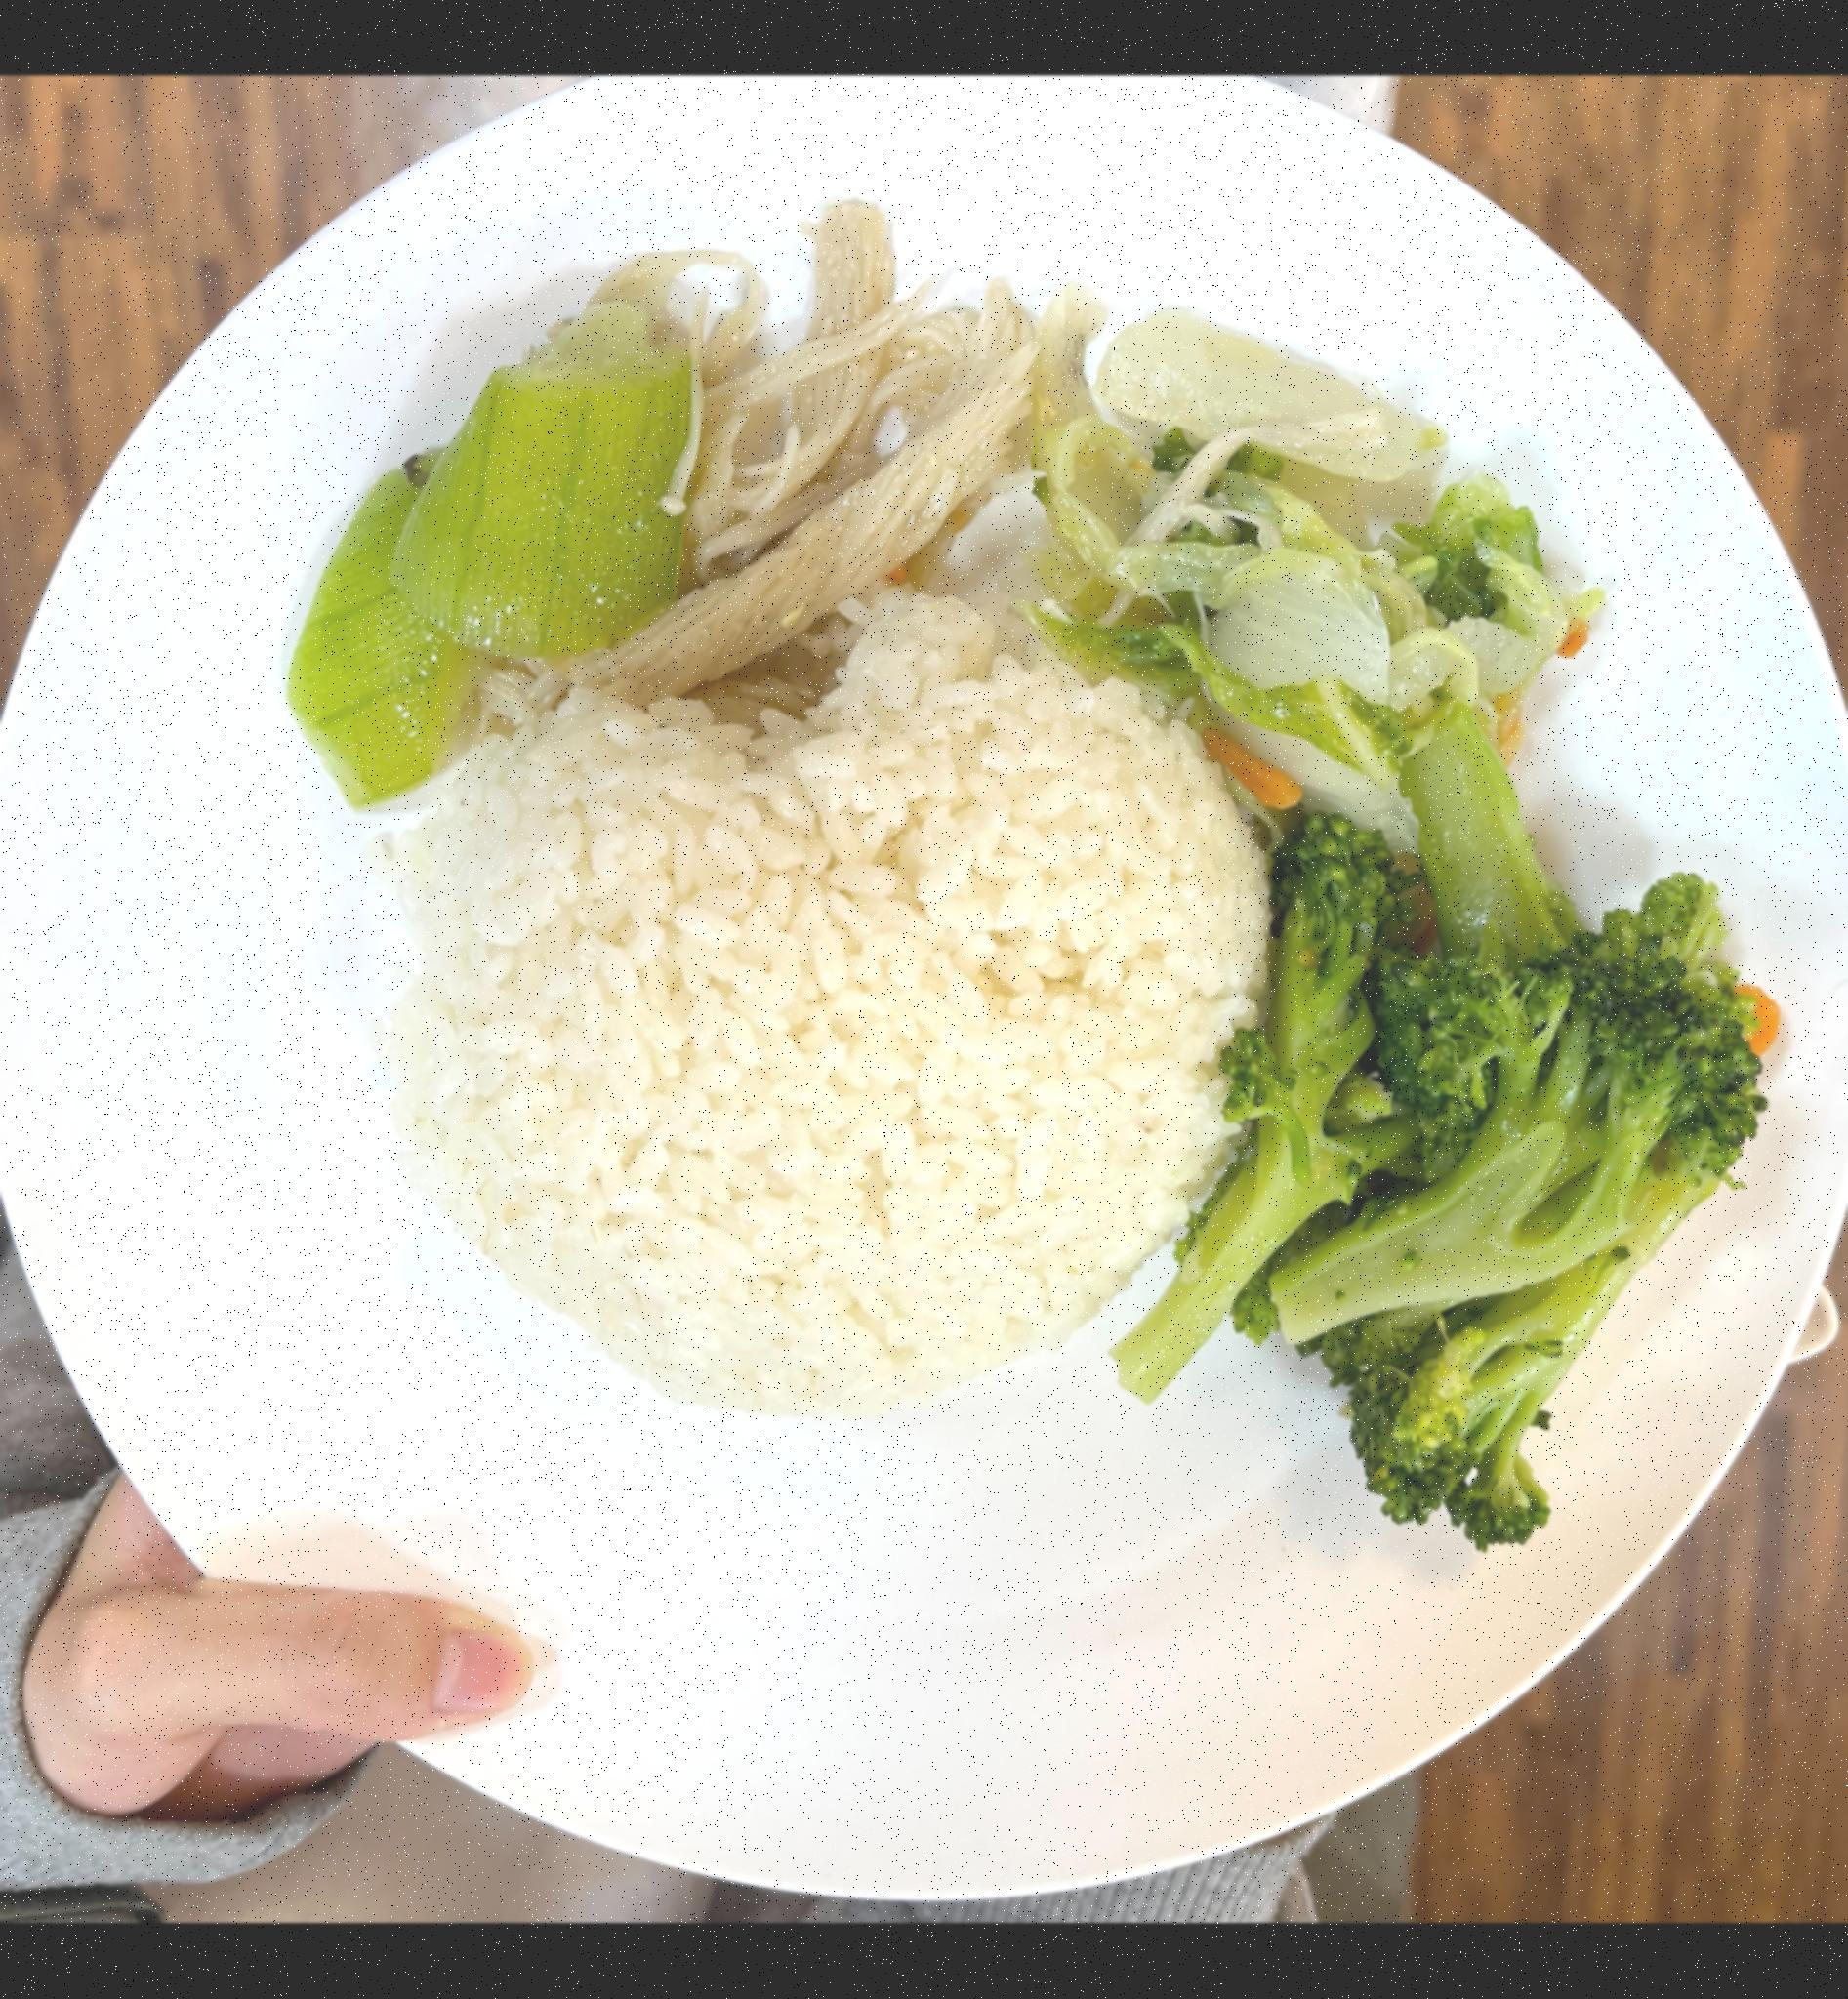plate: (0, 108, 1848, 1896)
side dish: (1134, 817, 1799, 1525), (1052, 308, 1672, 785), (256, 273, 712, 801), (667, 230, 1056, 700)
white rice: (378, 597, 1292, 1416)
